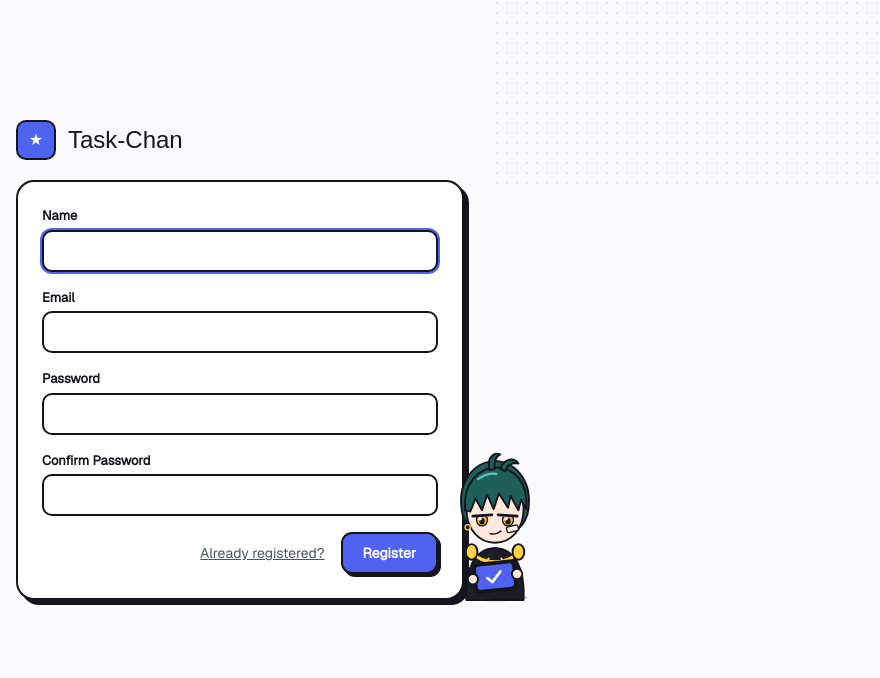
auth forms › explains a blank registration 429 without closing the form
The width and height of the screenshot is (880, 678).
Type "Ada" into the field labelled "Name" at (240, 250), box left=42, top=230, right=438, bottom=272
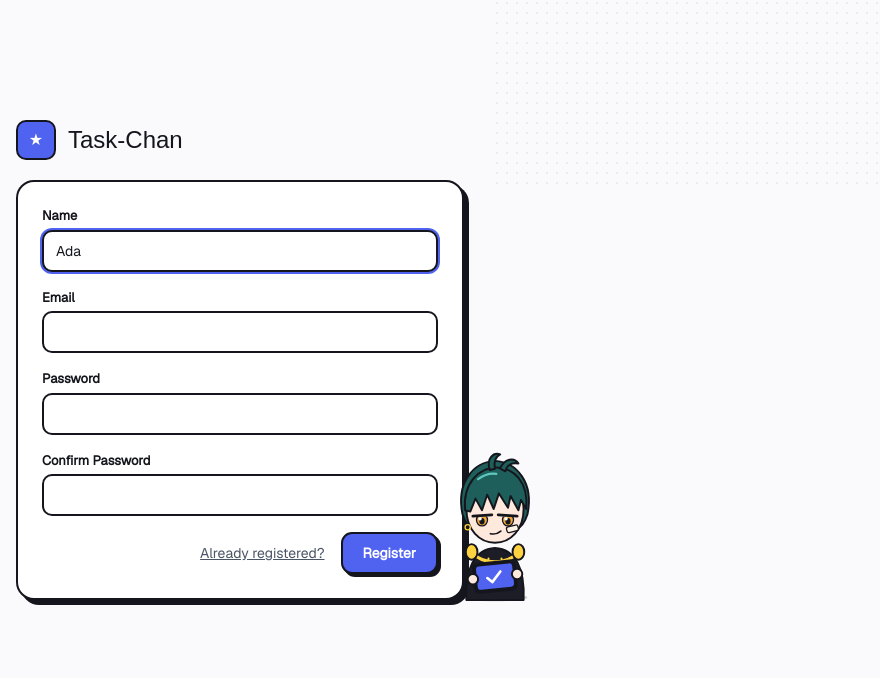
Type "ada@example.com" into the field labelled "Email" at (240, 332), box left=42, top=311, right=438, bottom=353
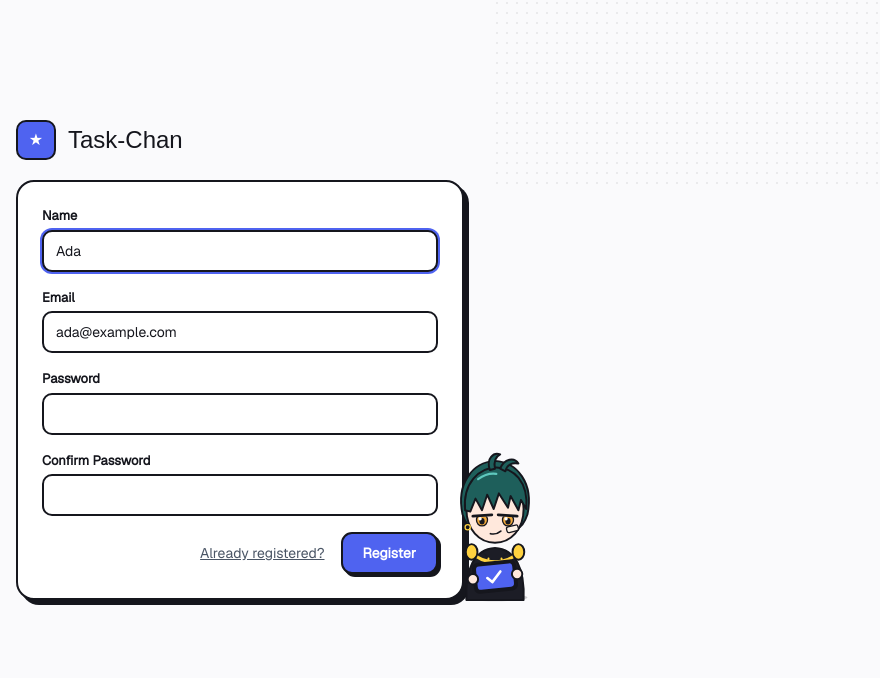
Type "password" into the password field labelled "Password" at (240, 414), box left=42, top=392, right=438, bottom=434
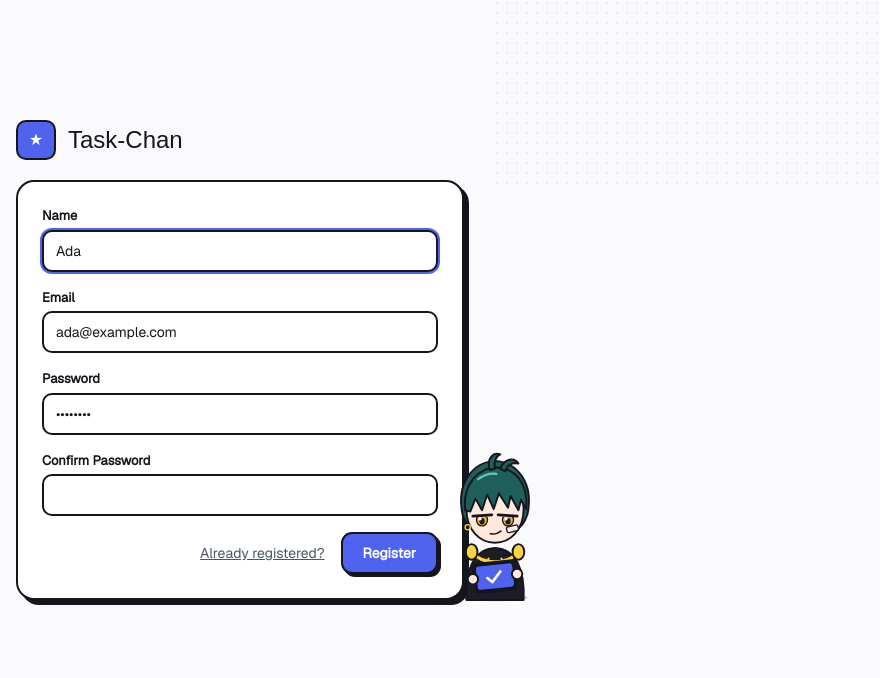
Type "password" into the password field labelled "Confirm Password" at (240, 495), box left=42, top=474, right=438, bottom=516
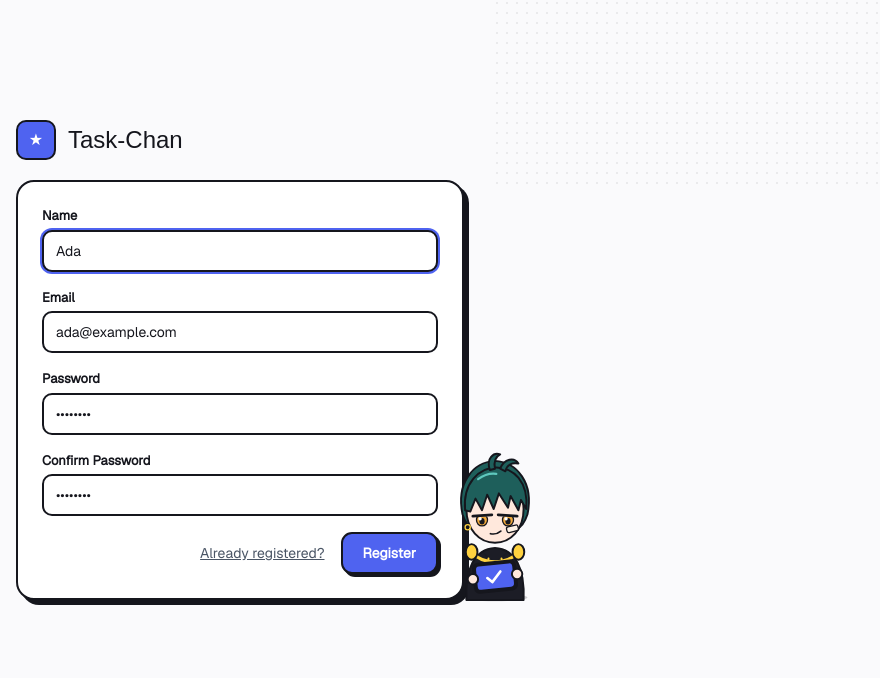
Click the button "Register" at (389, 553), box left=340, top=532, right=438, bottom=574
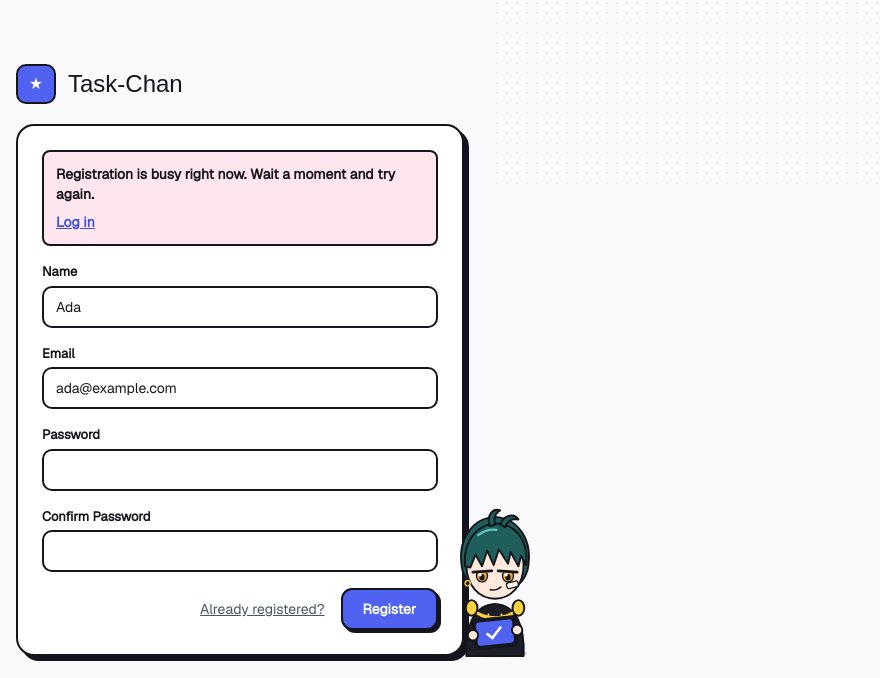
Check: the field labelled "Name" is enabled, box left=42, top=286, right=438, bottom=328
Check: the message shows "Registration is busy right now. Wait a moment and try again.", box left=56, top=165, right=395, bottom=203
